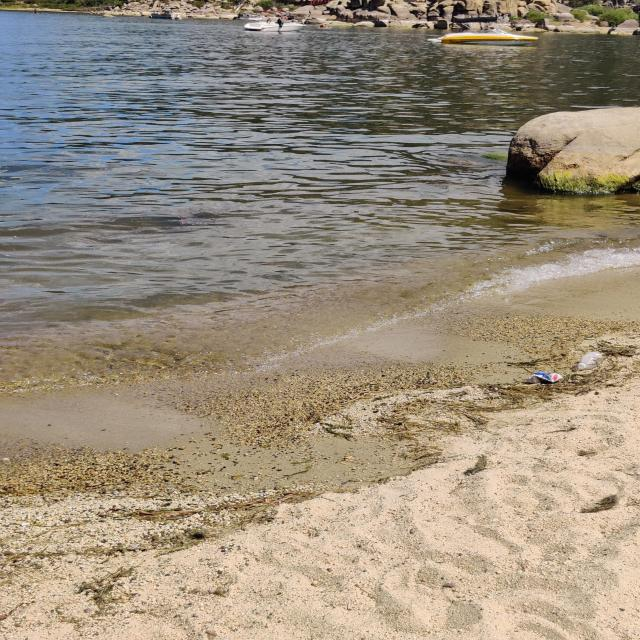litter: (583, 350, 607, 370)
